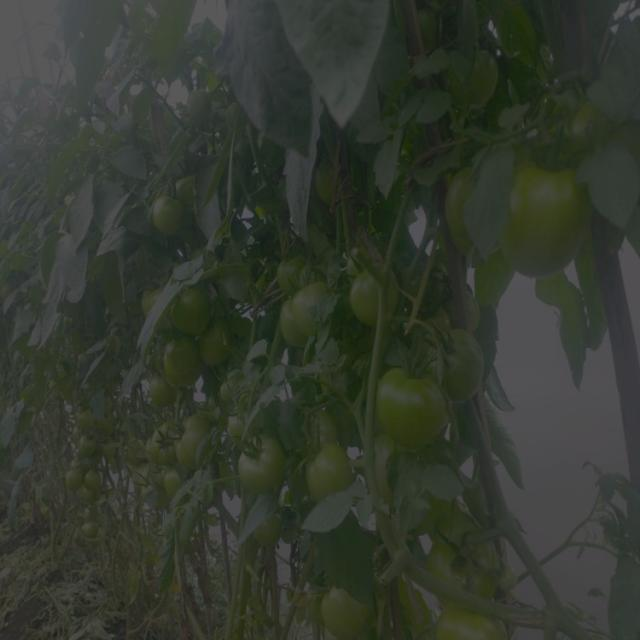tomato: (508, 156, 597, 286), (371, 365, 453, 446), (426, 510, 508, 590), (438, 314, 497, 401), (441, 165, 481, 255), (305, 435, 355, 506), (320, 585, 380, 635), (165, 340, 213, 395), (233, 435, 280, 491), (172, 418, 220, 472), (431, 607, 505, 640), (347, 265, 386, 322), (295, 280, 336, 329), (204, 329, 240, 375), (279, 288, 306, 347), (153, 190, 184, 238), (168, 287, 205, 325), (74, 432, 101, 458), (148, 425, 167, 461), (81, 514, 103, 544), (87, 471, 106, 497), (66, 469, 84, 492)
